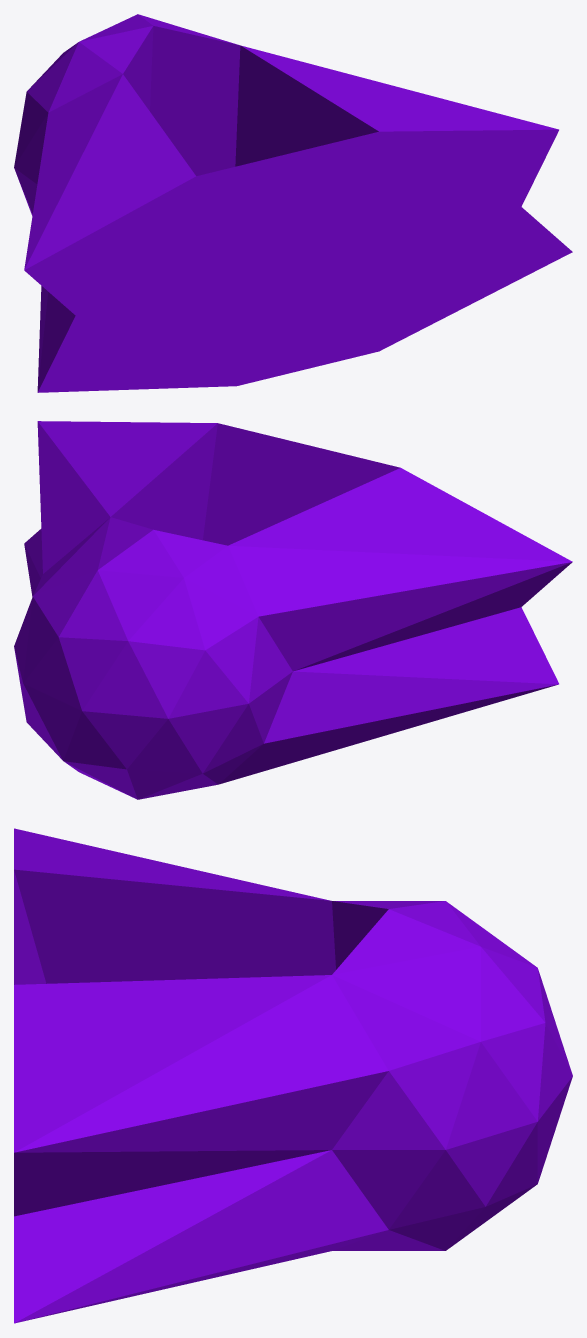
The model's file is ghost.glb.
3 views of the same model, one above another, from view 1: azimuth 30°, elevation 25°; view 2: azimuth 150°, elevation 25°; view 3: azimuth 270°, elevation 25° (orthographic). The views are drawn at different scales.
Visible parts, largest first — view 1: Icosphere; view 2: Icosphere; view 3: Icosphere.
Part boxes in pixels (bbox=[...]): Icosphere: bbox=[14, 14, 572, 392]; Icosphere: bbox=[14, 421, 572, 799]; Icosphere: bbox=[14, 828, 572, 1323].
Bounding box in the file's own units: 4.44 × 1.85 × 3.04.
